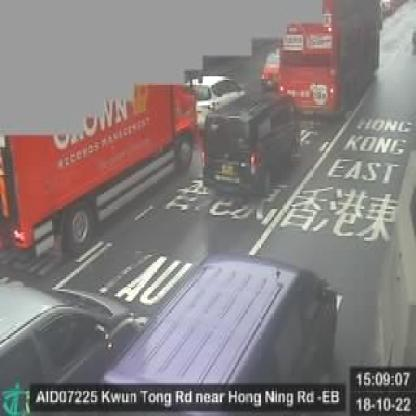Car: (98, 244, 324, 412), (0, 276, 138, 384), (278, 0, 379, 110), (200, 94, 299, 196), (190, 76, 247, 132)
Truck: (8, 52, 190, 252)
